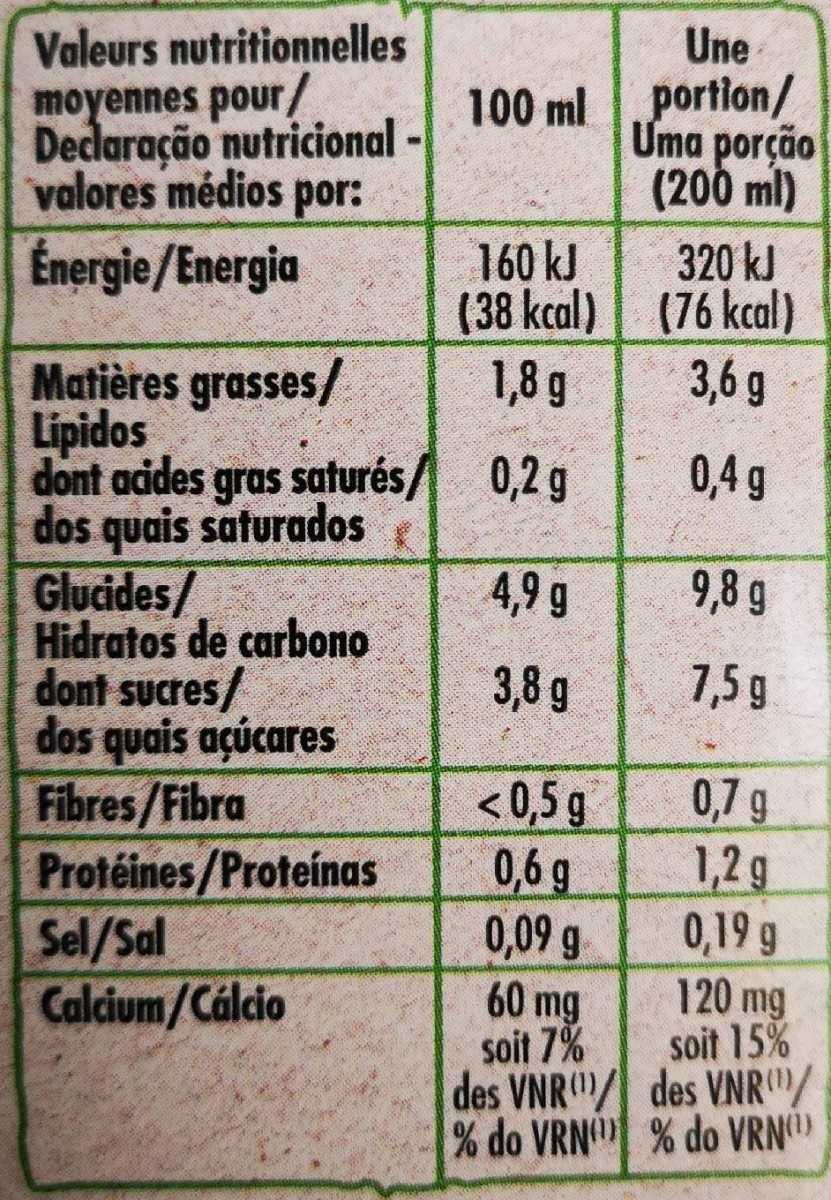column: (7, 13, 423, 1167), (632, 13, 817, 1162), (443, 18, 616, 1167)
table: (8, 8, 828, 1174)
